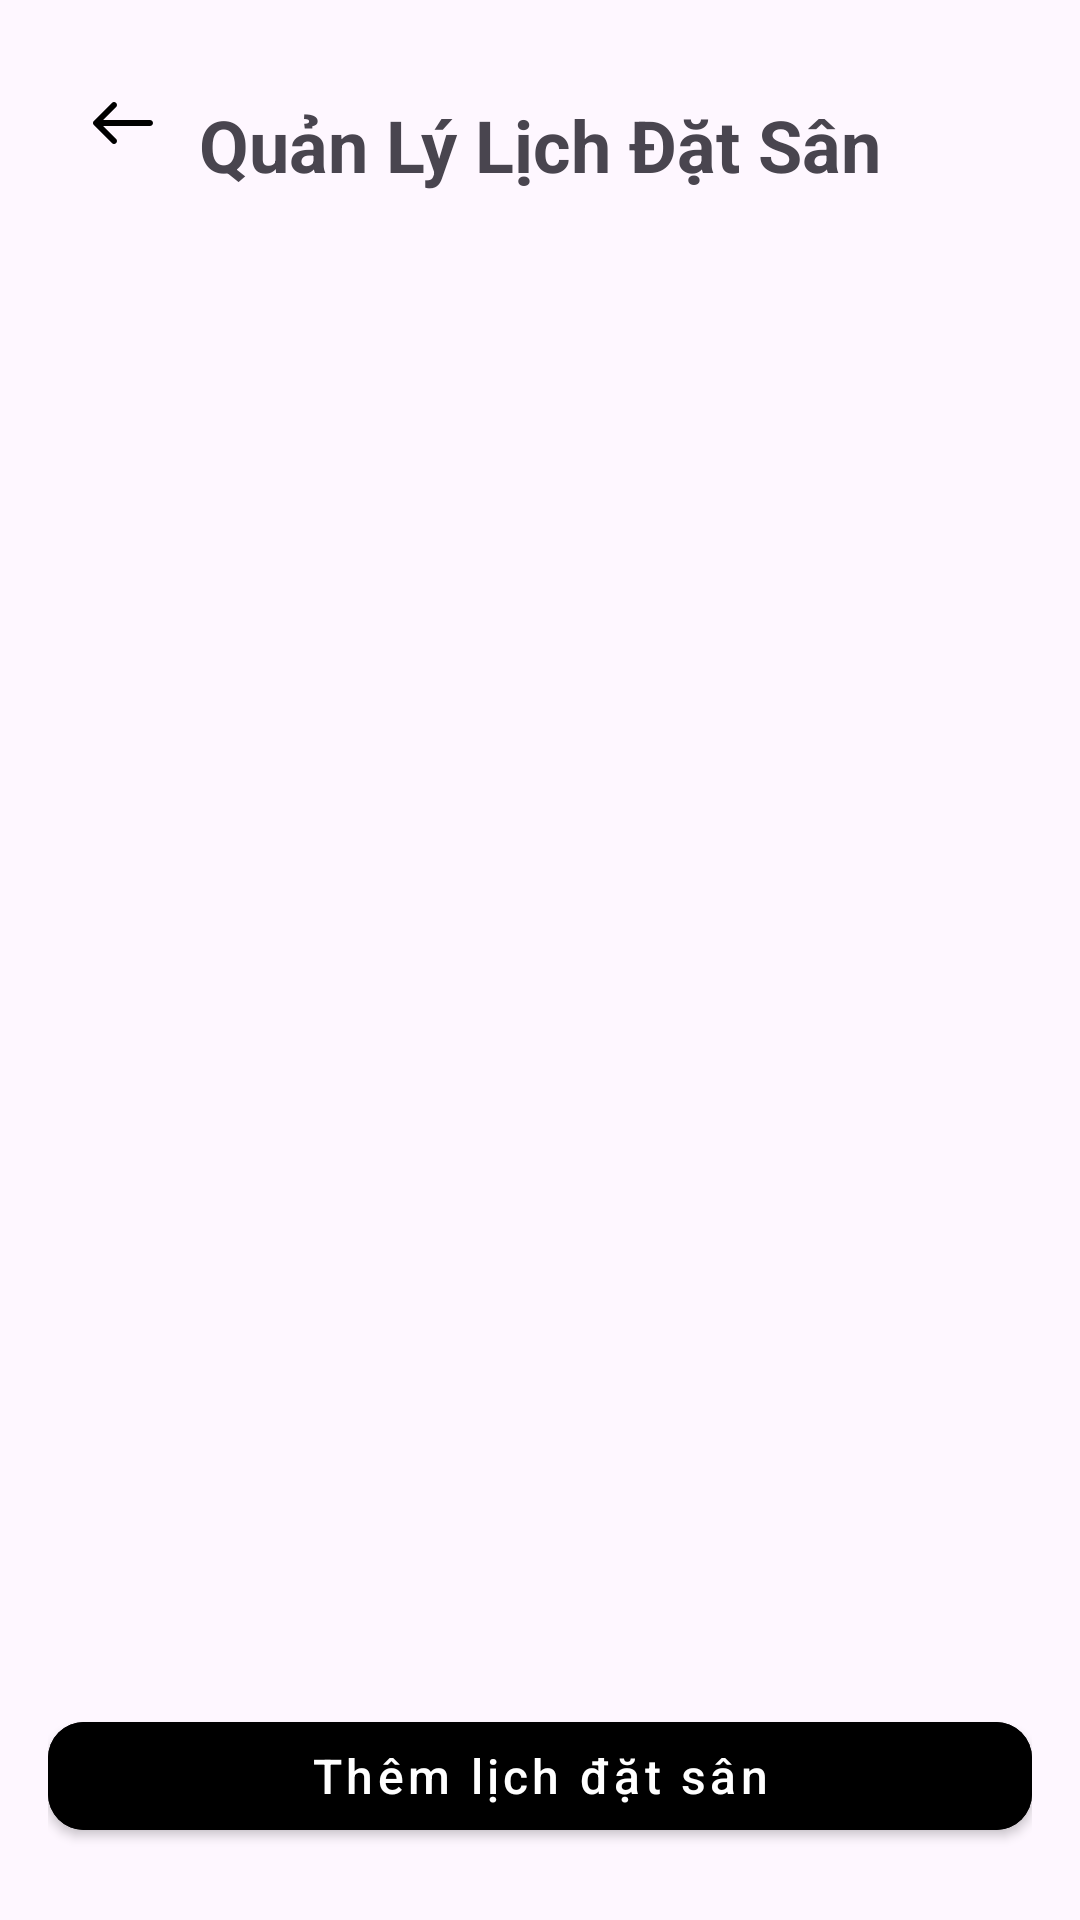

Where to tap for icons on this 1080w x 1920h app screen, as point (x, y):
arrow left: point (123, 123)
